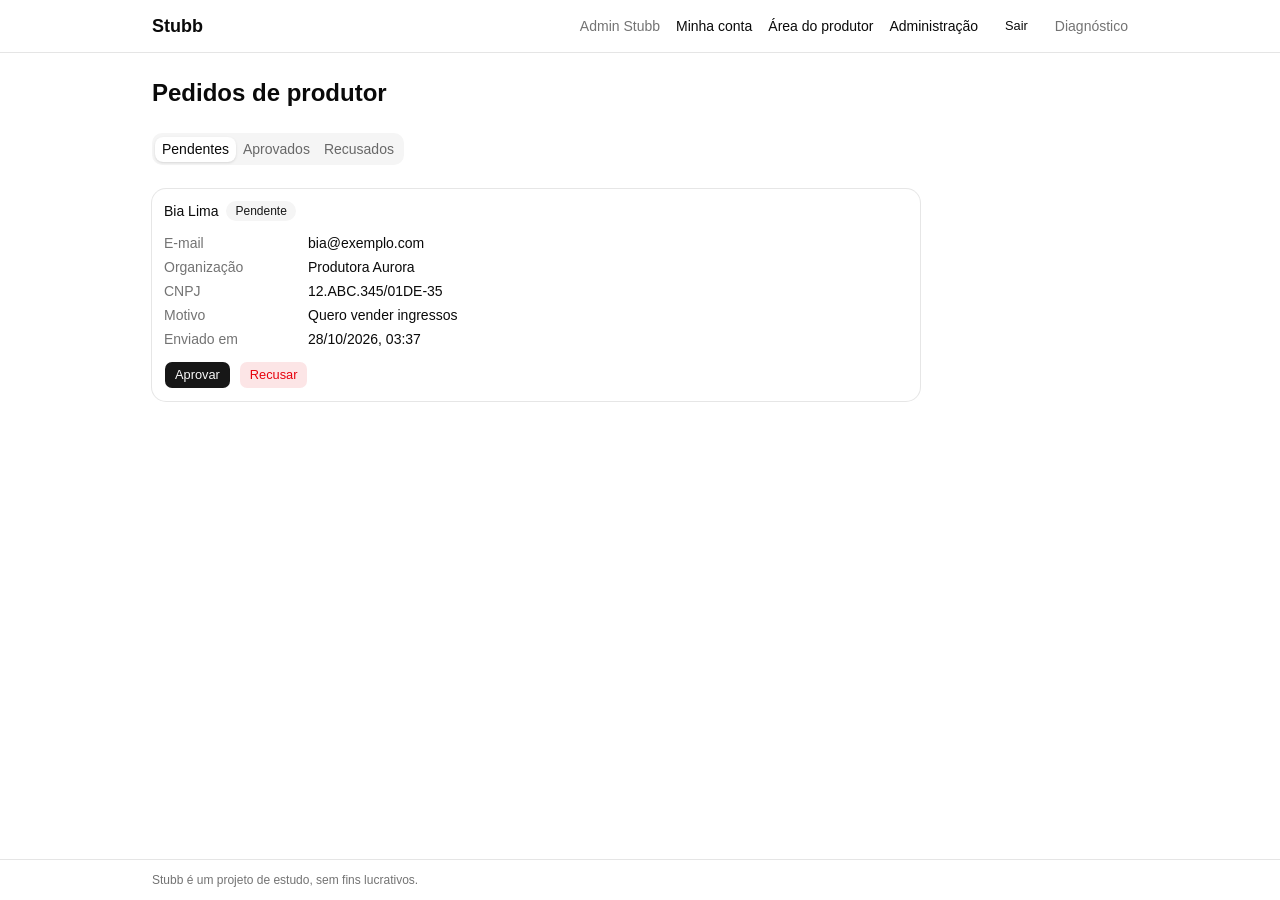
AdminOrganizerRequestsPage › Aprovar envia o command com Idempotency-Key e tira o pedido da lista de pendentes
This screenshot has width=1280, height=900.
Click the button "Aprovar": click(197, 375) [164,361,231,389]
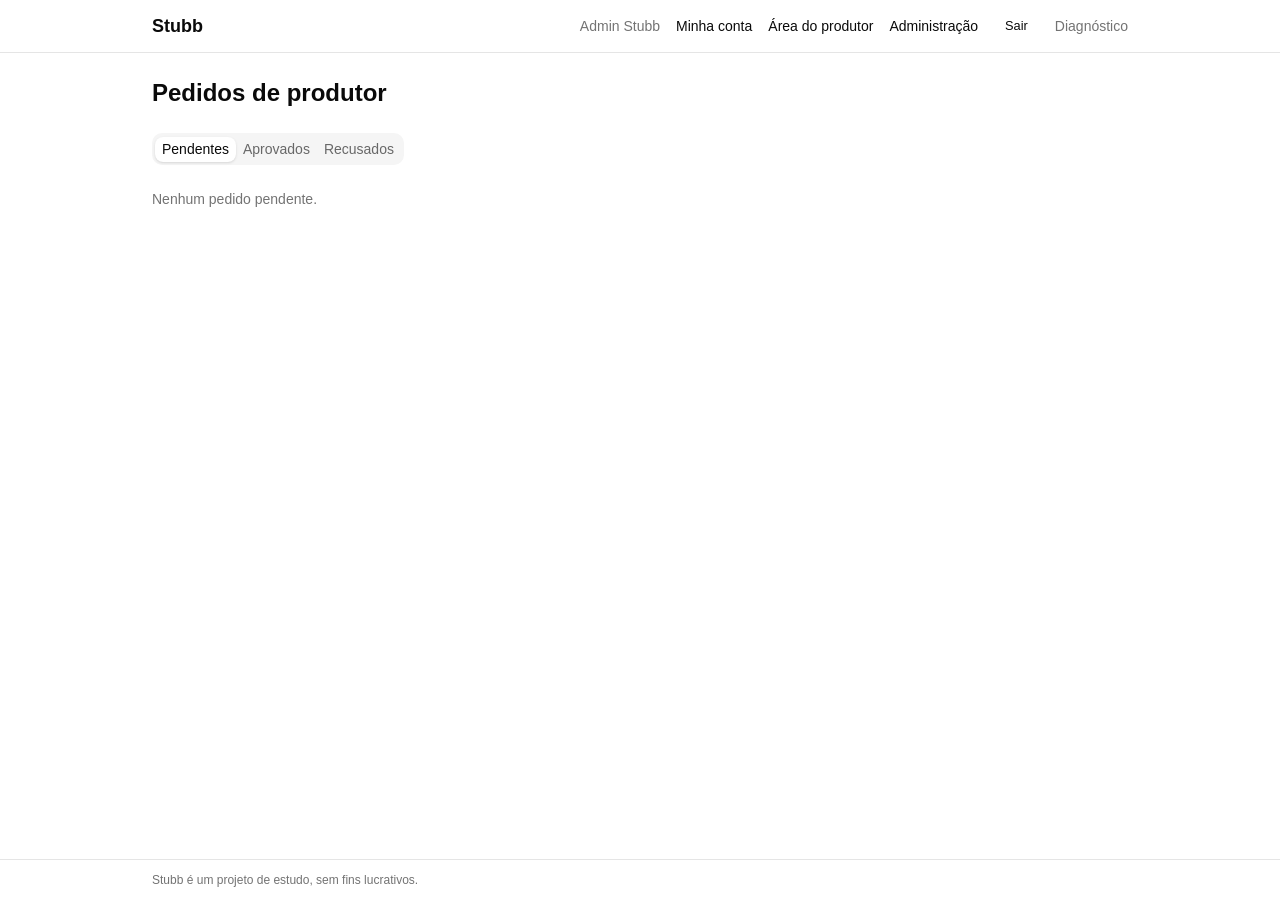
Result: the text "Bia Lima" is gone
Result: the text "Nenhum pedido pendente." is shown at [152,191,317,207]
